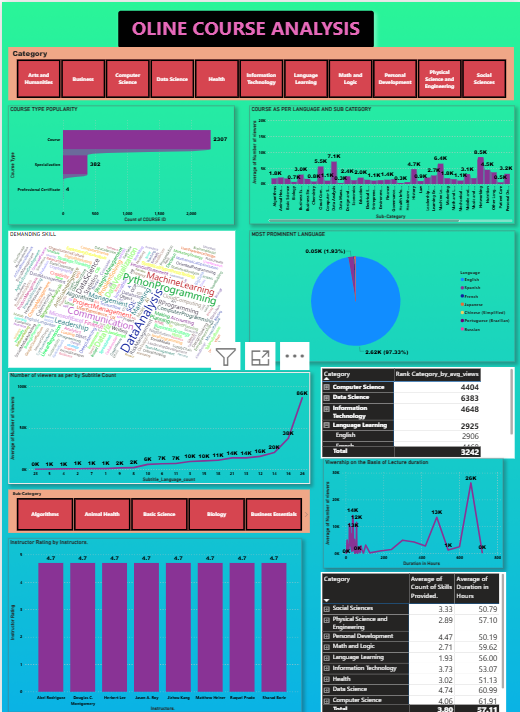

The page's visual inventory and layout, read from the dashboard file:
{"tool":"powerbi","page":{"name":"Page 1","canvas":[1600,2200],"ordinal":0},"visuals":[{"type":"textbox","box":[358,26,786,114],"z":0},{"type":"barChart","title":"COURSE TYPE POPULARITY","fields":{"Y":["CountNonNull(Online_Courses.COURSE ID)"],"Category":["Online_Courses.Course Type"]},"box":[19.2,319.2,696.1,365.4],"z":1000},{"type":"slicer","fields":{"Values":["Online_Courses.Category"]},"box":[20,140,1556,164],"z":2000},{"type":"columnChart","title":"COURSE AS PER LANGUAGE AND SUB CATEGORY","fields":{"Category":["Online_Courses.Sub-Category","Online_Courses.Language"],"Y":["Avg(Online_Courses.Number of viewers)"]},"box":[760,320,816,364],"z":3000},{"type":"WordCloud1447959067750","title":"DEMANDING SKILL","fields":{"Category":["Online_Courses.Skills"]},"box":[20,703.3,696.7,420],"z":4000},{"type":"pieChart","title":"MOST PROMINENT LANGUAGE","fields":{"Category":["Online_Courses.Language"],"Y":["CountNonNull(Online_Courses.COURSE ID)"]},"box":[760,703.3,816.7,403.3],"z":5000},{"type":"pivotTable","fields":{"Rows":["Online_Courses.Category","Online_Courses.Language"],"Values":["Online_Courses.Rank Category_by_avg_views"]},"box":[980,1123.3,596.7,281.7],"z":6000},{"type":"lineChart","title":" Number of viewers as per by Subtitle Count","fields":{"Category":["Online_Courses.Subtitle_Language_count"],"Y":["Avg(Online_Courses.Number of viewers)"]},"box":[20,1140,928.3,345],"z":7000},{"type":"clusteredColumnChart","fields":{"Category":["Teachers.Instructors."],"Y":["Teachers.Instructor Rating"]},"box":[20,1650,903.3,538.3],"z":8000},{"type":"slicer","fields":{"Values":["Teachers.Sub-Category"]},"box":[20,1500,928.3,133.3],"z":9000},{"type":"lineChart","title":"Viwership on the Basis of Lecture duration","fields":{"Category":["Online_Courses.Duration in Hours"],"Y":["Avg(Online_Courses.Number of viewers)"]},"box":[988.3,1405,553.3,338.3],"z":10000},{"type":"pivotTable","fields":{"Rows":["Online_Courses.Category","Online_Courses.Sub-Category"],"Values":["Avg(Online_Courses.Count of Skills Provided.)","Avg(Online_Courses.Duration in Hours)"]},"box":[980,1755,570,445],"z":10001}]}

Visuals, with their boxes in screenshot pixels (x1, y1, x2, y2), scaled from the page's 1600x2200 canvas onto the 520x712 screenshot:
textbox: (116, 8, 372, 45)
"COURSE TYPE POPULARITY" barChart: (6, 103, 232, 222)
slicer - Online_Courses.Category: (6, 45, 512, 98)
"COURSE AS PER LANGUAGE AND SUB CATEGORY" columnChart: (247, 104, 512, 221)
"DEMANDING SKILL" WordCloud1447959067750: (6, 228, 233, 364)
"MOST PROMINENT LANGUAGE" pieChart: (247, 228, 512, 358)
pivotTable - Online_Courses.Category x Online_Courses.Language: (318, 364, 512, 455)
" Number of viewers as per by Subtitle Count" lineChart: (6, 369, 308, 481)
clusteredColumnChart - Teachers.Instructors. x Teachers.Instructor Rating: (6, 534, 300, 708)
slicer - Teachers.Sub-Category: (6, 485, 308, 529)
"Viwership on the Basis of Lecture duration" lineChart: (321, 455, 501, 564)
pivotTable - Online_Courses.Category x Online_Courses.Sub-Category: (318, 568, 504, 711)
